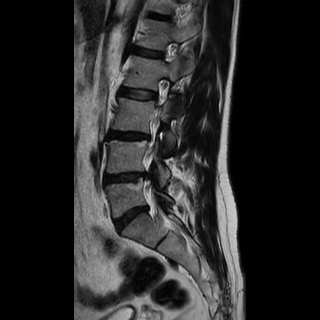RFS0: (148, 72, 173, 110), (158, 37, 183, 68)
